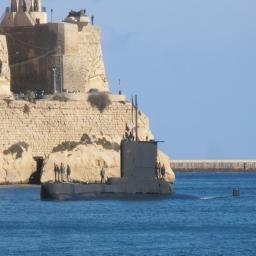submarine: (44, 93, 247, 201)
